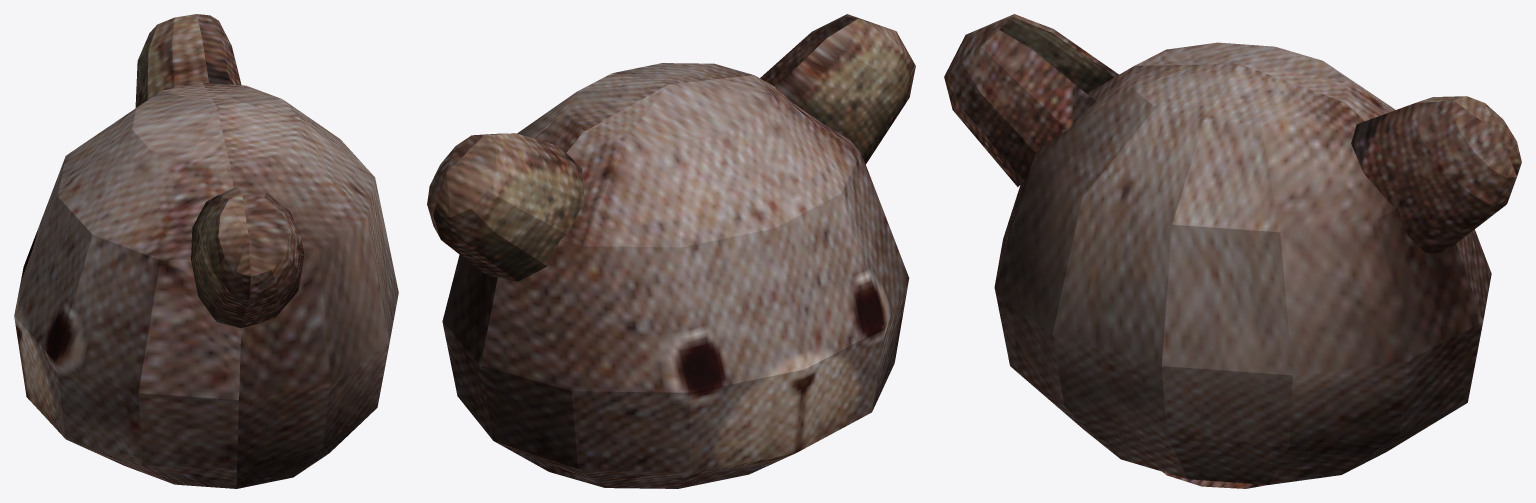
Rendered from cabeza.obj.
3 renders of one model, left to right at view 1: azimuth 30°, elevation 25°; view 2: azimuth 150°, elevation 25°; view 3: azimuth 270°, elevation 25°, orthographic. The views are drawn at different scales.
Visible parts, largest first — view 1: polySurface86; view 2: polySurface86; view 3: polySurface86.
Part boxes in pixels (left/top/right/bottom): polySurface86: left=14, top=14, right=398, bottom=488; polySurface86: left=427, top=14, right=915, bottom=488; polySurface86: left=944, top=14, right=1521, bottom=488.
Size of the model in its own units: 0.1658 by 0.1611 by 0.2143.
Materials: 2 (2 with a texture image).
